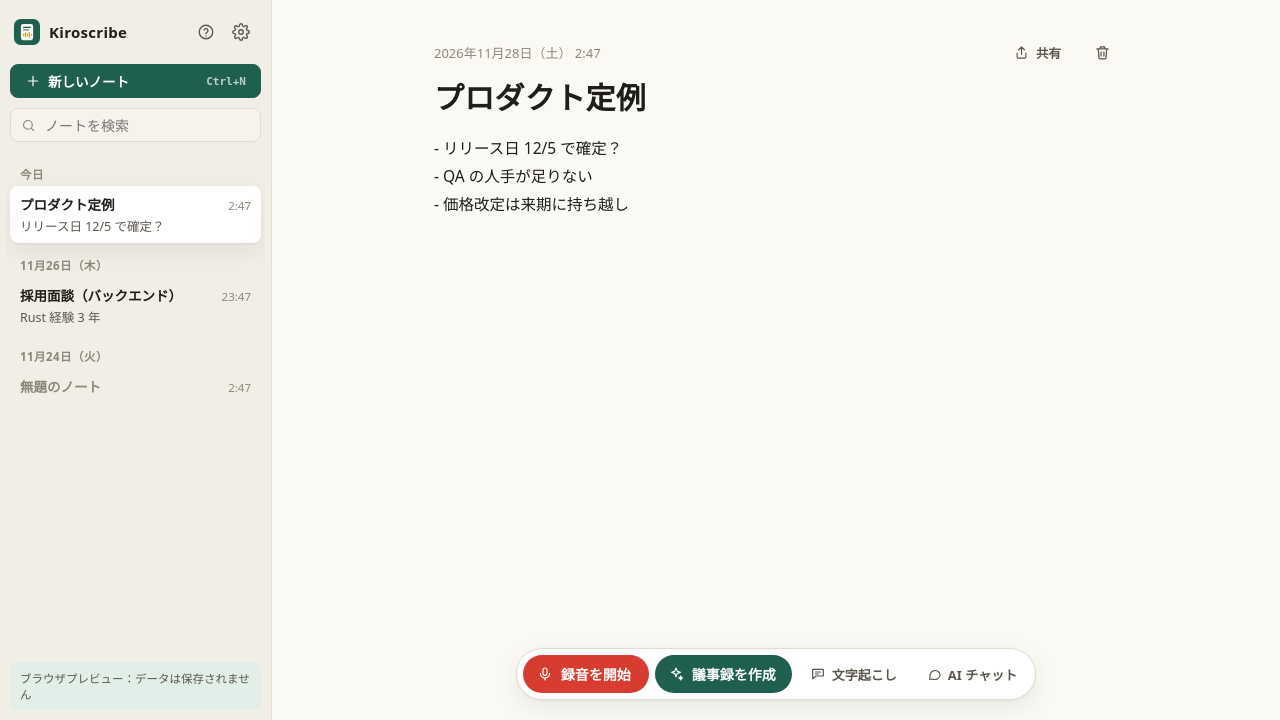
Test case: App › [NOTE-014][NOTE-020] 確認してからノートを削除し、次のノートを選ぶ
Check: the text "プロダクト定例" is shown, box [20,196,114,214]
Check: the field showing "プロダクト定例" is shown, box [434,74,1118,121]
Click the button named "ノートを削除" at coordinates (1102, 52), box [1086,36,1118,68]
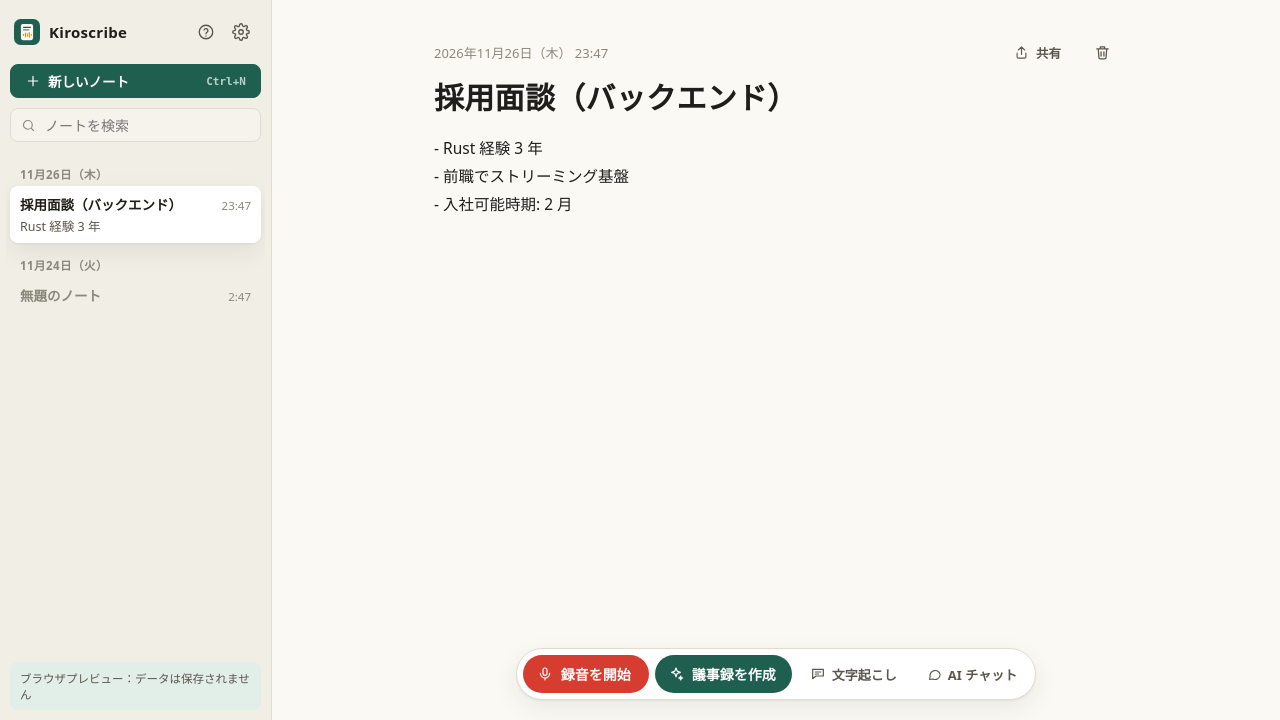
Check: the button "プロダクト定例" is gone
Check: the field showing "採用面談（バックエンド）" is shown, box [434,74,1118,121]
